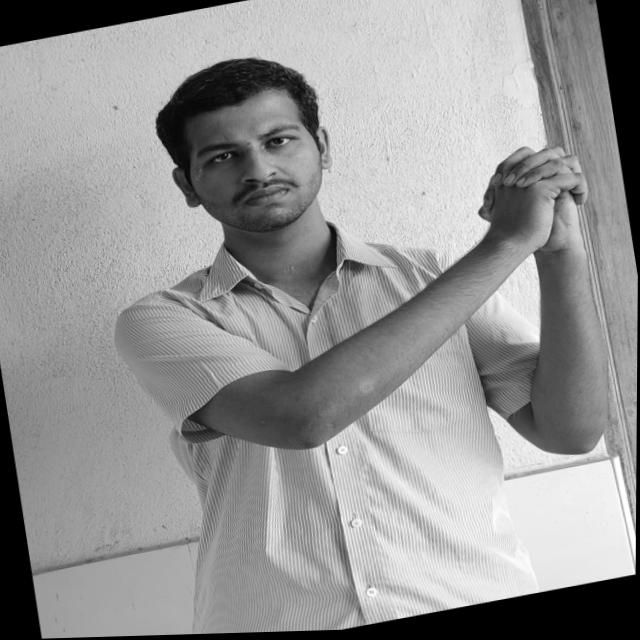Sorry: (473, 139, 600, 266)
